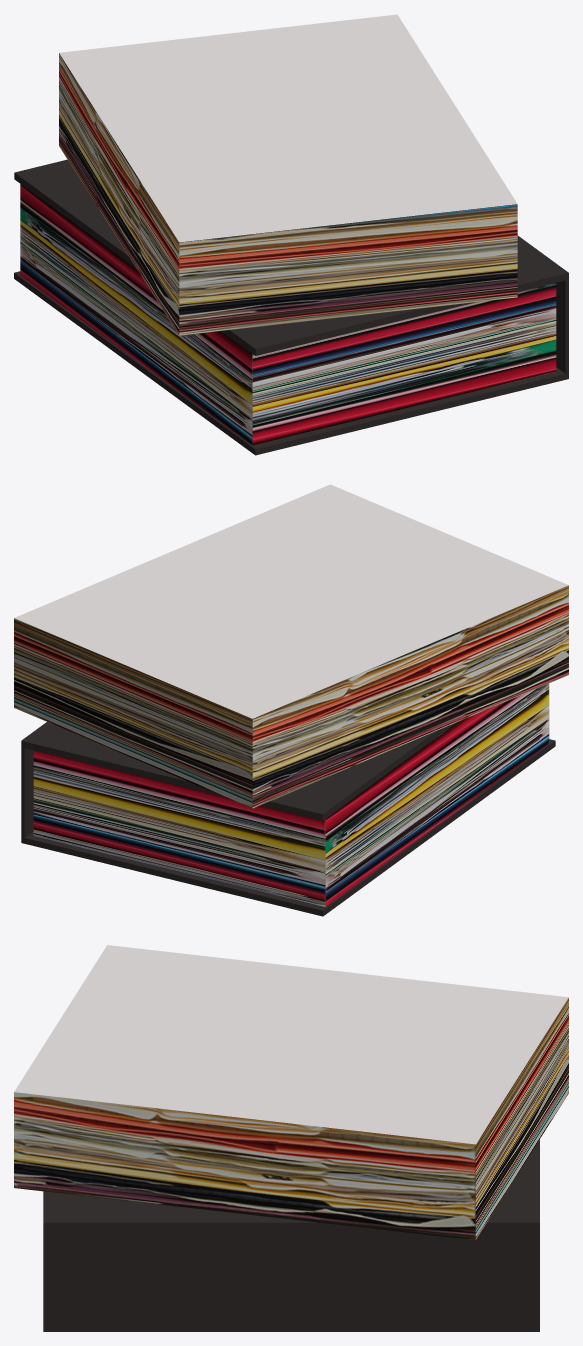
Rendered from Files 4.FBX.
The picture shows the model from 3 angles, top to bottom: view 1: azimuth 30°, elevation 25°; view 2: azimuth 150°, elevation 25°; view 3: azimuth 270°, elevation 25°; orthographic projection. The views are drawn at different scales.
Parts seen in each view (by area): view 1: Files 4; view 2: Files 4; view 3: Files 4.
Part boxes in pixels (left/top/right/bottom): Files 4: left=14, top=14, right=568, bottom=455; Files 4: left=14, top=484, right=568, bottom=916; Files 4: left=14, top=945, right=568, bottom=1331.
Bounding box in the file's own units: 22.94 × 11.1 × 26.99.
Materials: 1 (1 with a texture image).
